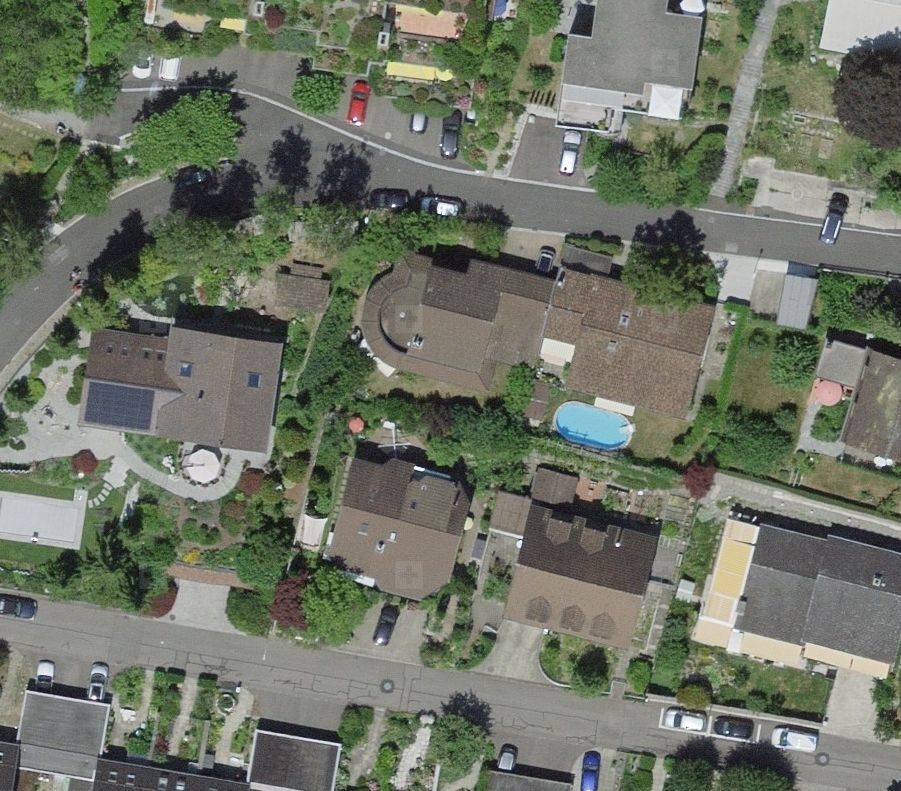solar: (83, 379, 157, 436)
